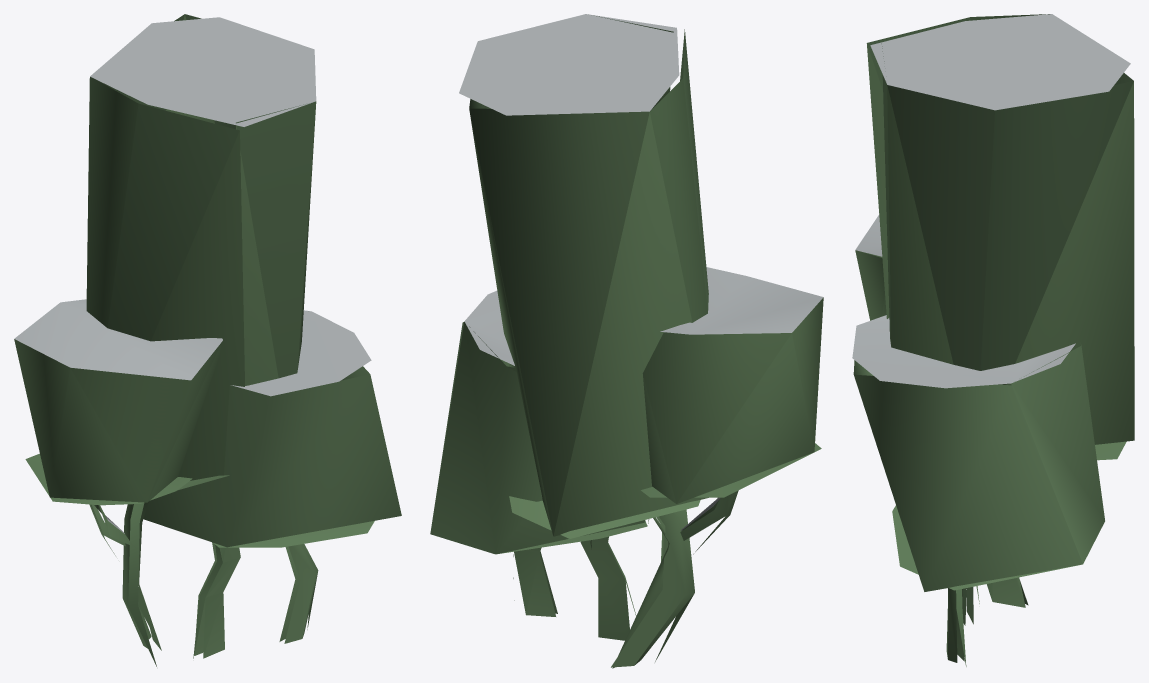
Rendered from angular_bush__winter_low.glb.
3 views of the same model, side by side, from view 1: azimuth 30°, elevation 25°; view 2: azimuth 150°, elevation 25°; view 3: azimuth 270°, elevation 25° (orthographic). The views are drawn at different scales.
Bounding box in the file's own units: 0.7926 × 1.22 × 0.5414.
